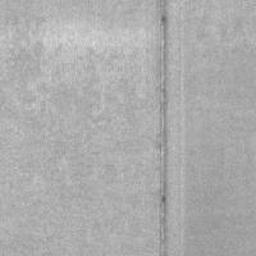Welding line: (159, 0, 169, 256)
